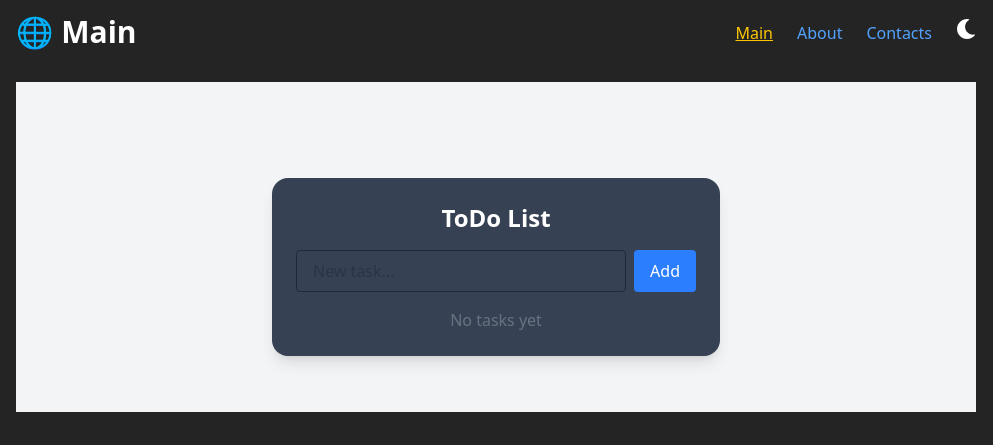
Test: TodoList › adds a new todo to the list when at least 5 characters are entered and "Add" is clicked
In the field with placeholder "New task...": point(461, 271) [296,250,626,292], type "Buy groceries"
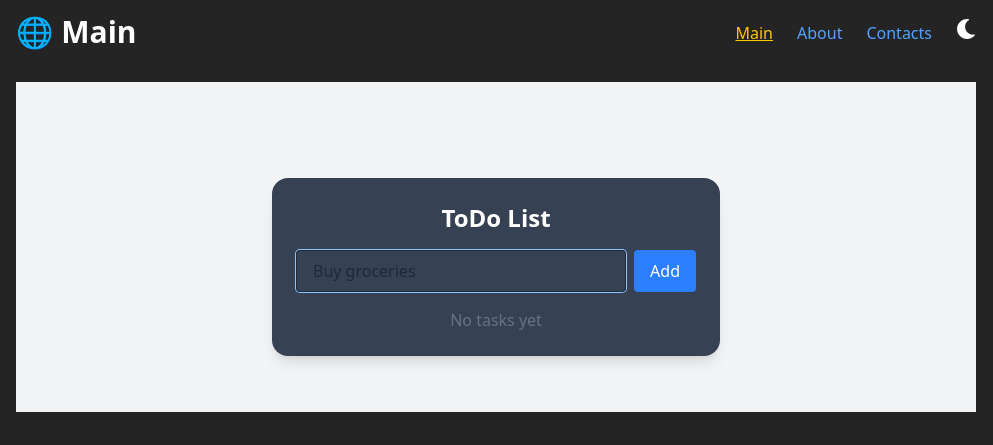
Click the button "Add": point(665, 271) [634,250,696,292]
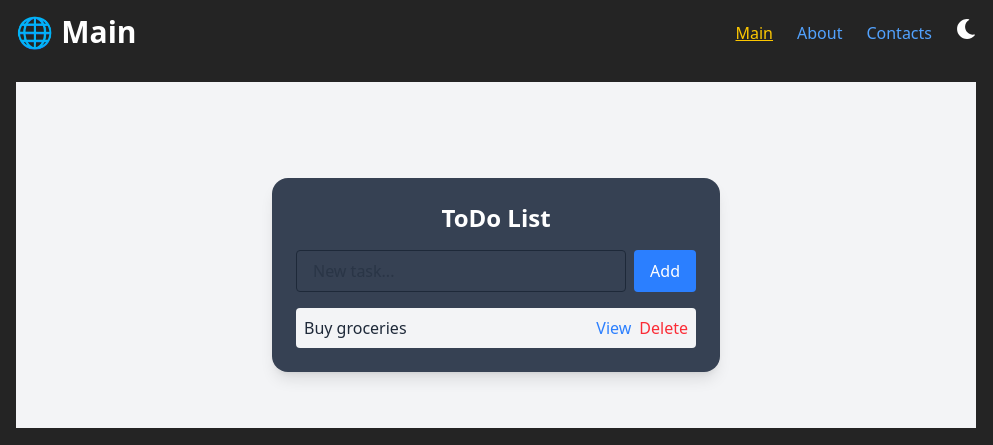
expect the text "Buy groceries" is shown: met, box [304,316,406,340]
